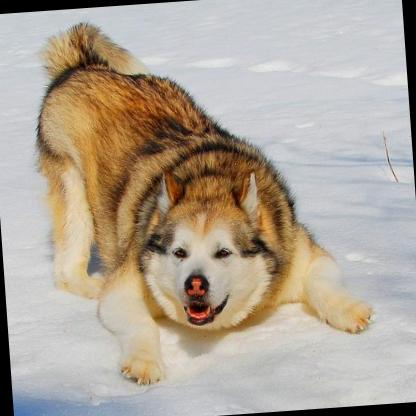malamute: (23, 0, 379, 393)
